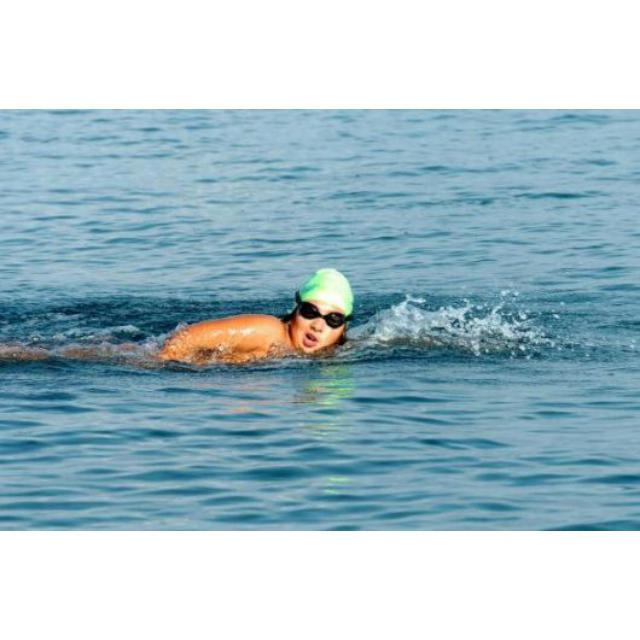human: (1, 266, 356, 372)
